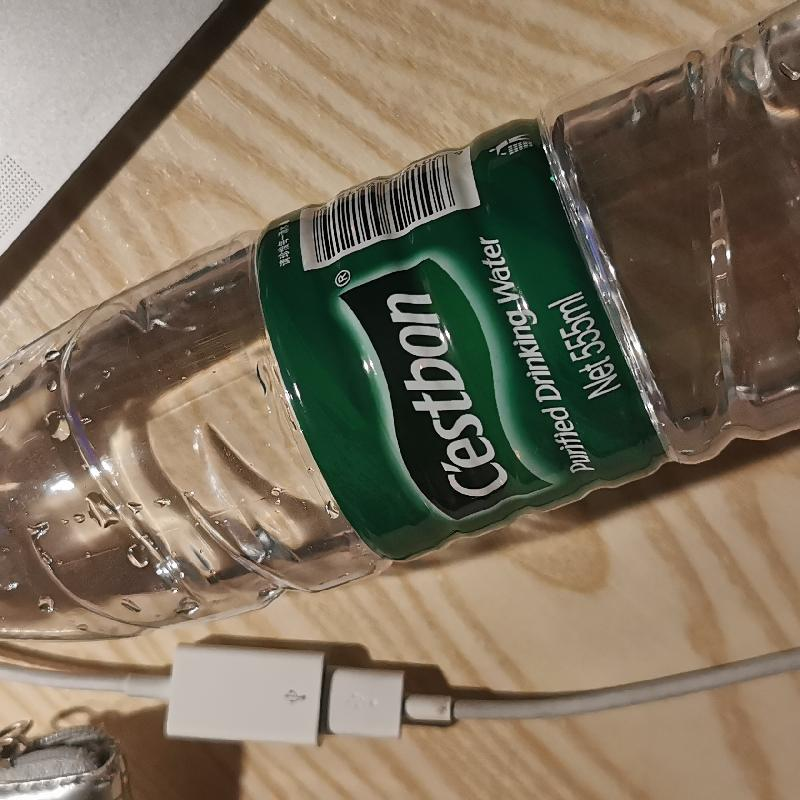bottles: (0, 13, 799, 637)
